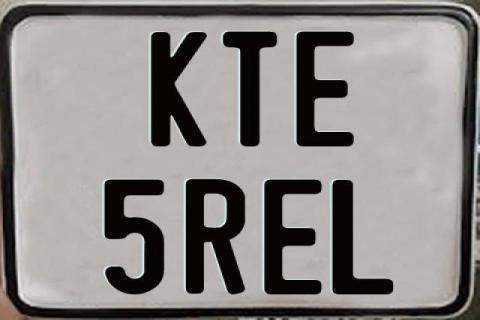0: (104, 180, 168, 296)
E: (263, 177, 325, 296), (295, 29, 356, 144)
K: (150, 30, 211, 146)
L: (332, 178, 398, 292)
R: (184, 178, 245, 298)
T: (222, 30, 278, 146)
